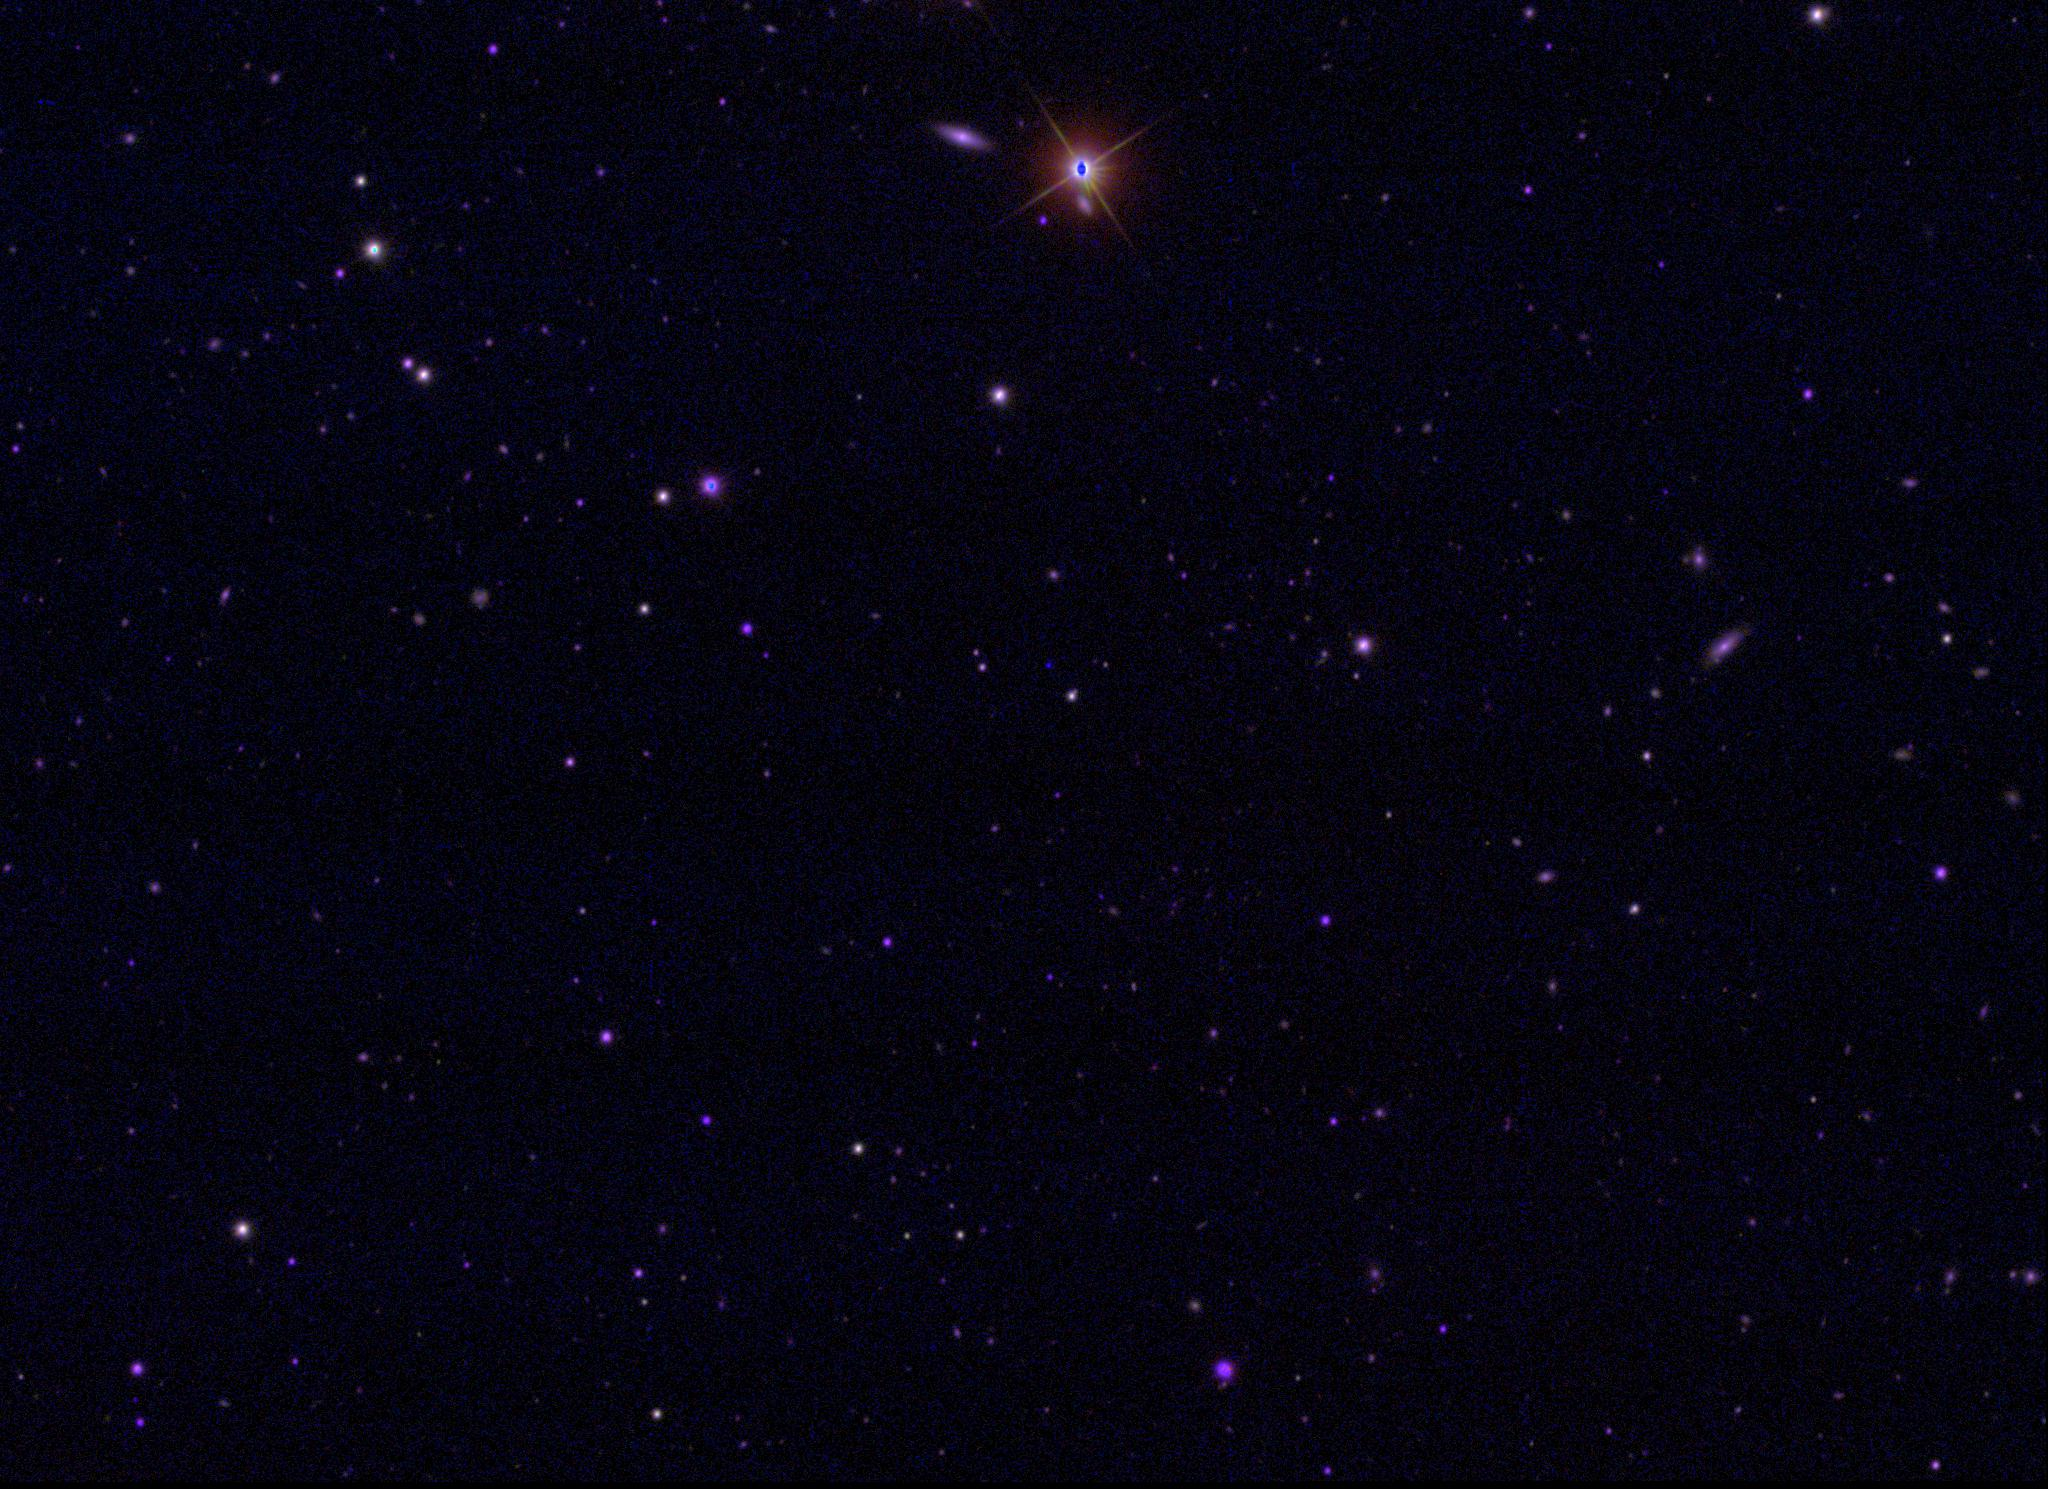L: (1041, 659, 1056, 671)
